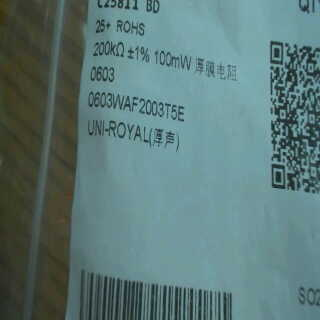200kR: (90, 39, 127, 60)
